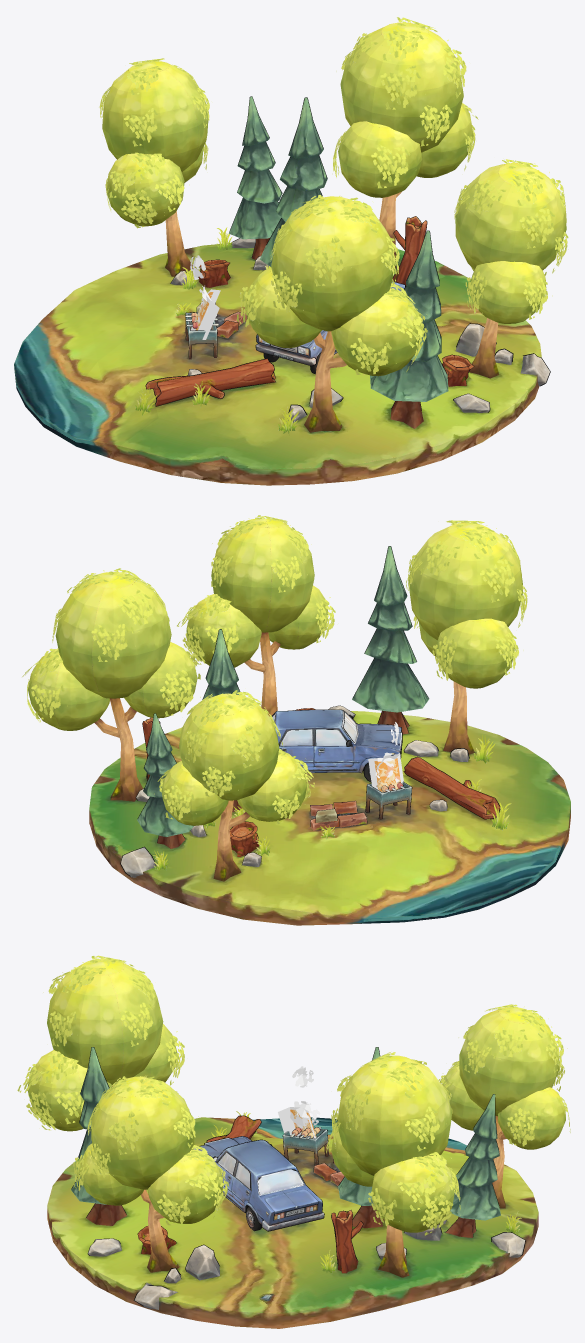
File: stylized_forest_-_scene_may_holiday-transformed.glb
3 views of the same model, one above another, from view 1: azimuth 30°, elevation 25°; view 2: azimuth 150°, elevation 25°; view 3: azimuth 270°, elevation 25° (orthographic). The views are drawn at different scales.
Parts seen in each view (by area): view 1: Soil_soil_0, Circle_Birch_tree_0, Circle_foliage_base_color_0, Circle.001_Fir_0, Circle.002_Wood_0, Cube_Stones_0, Circle.001_Line _0, grass_albedo.002_grass_0, Cube.003_Vaz 2107_0, Barbecue_Barbecue_0, Fire_albedo_Fire_albedo_0; view 2: Circle_Birch_tree_0, Soil_soil_0, Circle_foliage_base_color_0, Circle.001_Fir_0, Cube.003_Vaz 2107_0, Circle.002_Wood_0, Circle.001_Line _0, Cube_Stones_0, grass_albedo.002_grass_0, Plane_Brick_0, Barbecue_Barbecue_0, Fire_albedo_Fire_albedo_0; view 3: Circle_Birch_tree_0, Soil_soil_0, Circle_foliage_base_color_0, Circle.001_Fir_0, Cube.003_Vaz 2107_0, Cube_Stones_0, Circle.001_Line _0, Circle.002_Wood_0, Barbecue_Barbecue_0, Smoke_albedo_Smoke_albedo_0, Fire_albedo_Fire_albedo_0, grass_albedo.002_grass_0.
Part boxes in pixels (x1=…): Soil_soil_0: x1=14, y1=243, x2=541, y2=485; Circle_Birch_tree_0: x1=102, y1=22, x2=566, y2=432; Circle_foliage_base_color_0: x1=99, y1=17, x2=568, y2=375; Circle.001_Fir_0: x1=229, y1=96, x2=448, y2=428; Circle.002_Wood_0: x1=146, y1=216, x2=473, y2=406; Cube_Stones_0: x1=171, y1=238, x2=549, y2=422; Circle.001_Line _0: x1=145, y1=96, x2=550, y2=414; grass_albedo.002_grass_0: x1=135, y1=227, x2=299, y2=433; Cube.003_Vaz 2107_0: x1=210, y1=282, x2=404, y2=373; Barbecue_Barbecue_0: x1=185, y1=312, x2=218, y2=359; Fire_albedo_Fire_albedo_0: x1=190, y1=289, x2=220, y2=339; Circle_Birch_tree_0: x1=28, y1=518, x2=522, y2=881; Soil_soil_0: x1=89, y1=711, x2=570, y2=925; Circle_foliage_base_color_0: x1=22, y1=515, x2=527, y2=824; Circle.001_Fir_0: x1=137, y1=546, x2=428, y2=848; Cube.003_Vaz 2107_0: x1=272, y1=710, x2=401, y2=815; Circle.002_Wood_0: x1=142, y1=708, x2=499, y2=856; Circle.001_Line _0: x1=120, y1=546, x2=500, y2=876; Cube_Stones_0: x1=121, y1=706, x2=468, y2=877; grass_albedo.002_grass_0: x1=153, y1=735, x2=511, y2=871; Plane_Brick_0: x1=310, y1=801, x2=366, y2=830; Barbecue_Barbecue_0: x1=365, y1=782, x2=411, y2=819; Fire_albedo_Fire_albedo_0: x1=368, y1=753, x2=403, y2=792; Circle_Birch_tree_0: x1=27, y1=958, x2=565, y2=1277; Soil_soil_0: x1=47, y1=1117, x2=538, y2=1328; Circle_foliage_base_color_0: x1=17, y1=955, x2=570, y2=1235; Circle.001_Fir_0: x1=71, y1=1047, x2=500, y2=1237; Cube.003_Vaz 2107_0: x1=194, y1=1134, x2=339, y2=1230; Cube_Stones_0: x1=88, y1=1141, x2=525, y2=1309; Circle.001_Line _0: x1=71, y1=1047, x2=525, y2=1306; Circle.002_Wood_0: x1=138, y1=1116, x2=362, y2=1273; Barbecue_Barbecue_0: x1=283, y1=1126, x2=328, y2=1165; Smoke_albedo_Smoke_albedo_0: x1=290, y1=1066, x2=320, y2=1128; Fire_albedo_Fire_albedo_0: x1=278, y1=1107, x2=316, y2=1138; grass_albedo.002_grass_0: x1=211, y1=1111, x2=521, y2=1273.
Bounding box in the file's own units: 11.94 × 6.2 × 12.5.
Materials: 13 (12 with a texture image).
